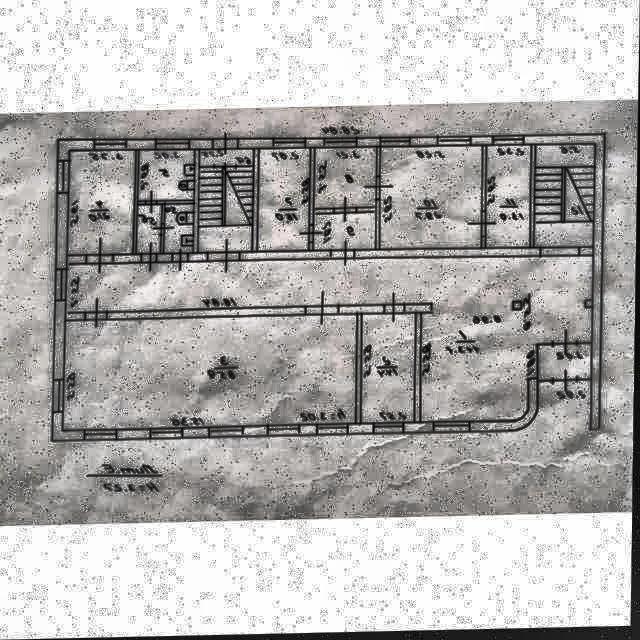room: (67, 259, 595, 426), (61, 316, 360, 431), (379, 148, 484, 250), (68, 150, 136, 257), (535, 147, 596, 251), (362, 315, 416, 425), (199, 149, 254, 254), (258, 148, 310, 254), (487, 147, 532, 251), (313, 148, 378, 210), (138, 150, 196, 202), (314, 214, 376, 252), (539, 347, 593, 383), (165, 204, 194, 254), (138, 204, 162, 255)
